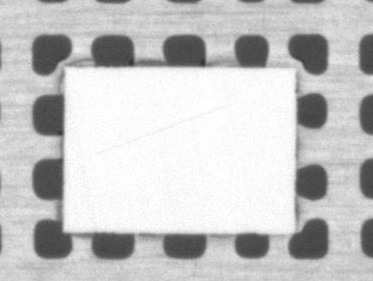DIE_CRACK: (129, 80, 299, 115)
